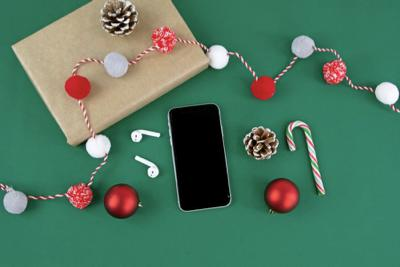cell-phone: (168, 100, 234, 213)
